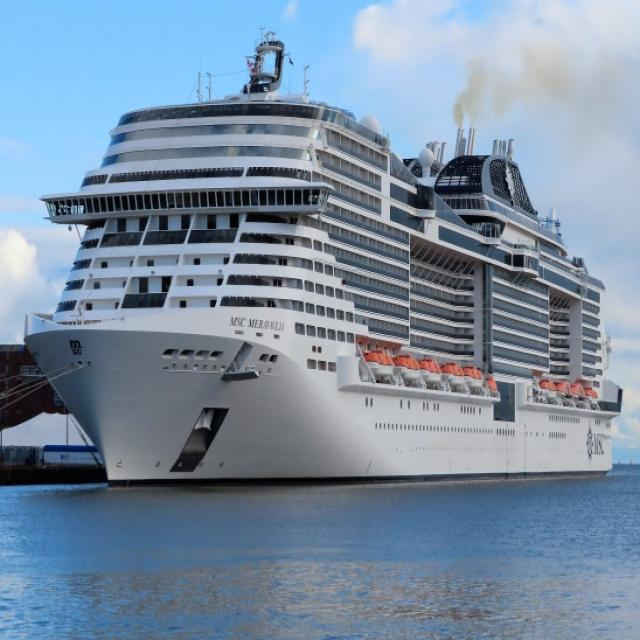cruises: (20, 37, 628, 495)
